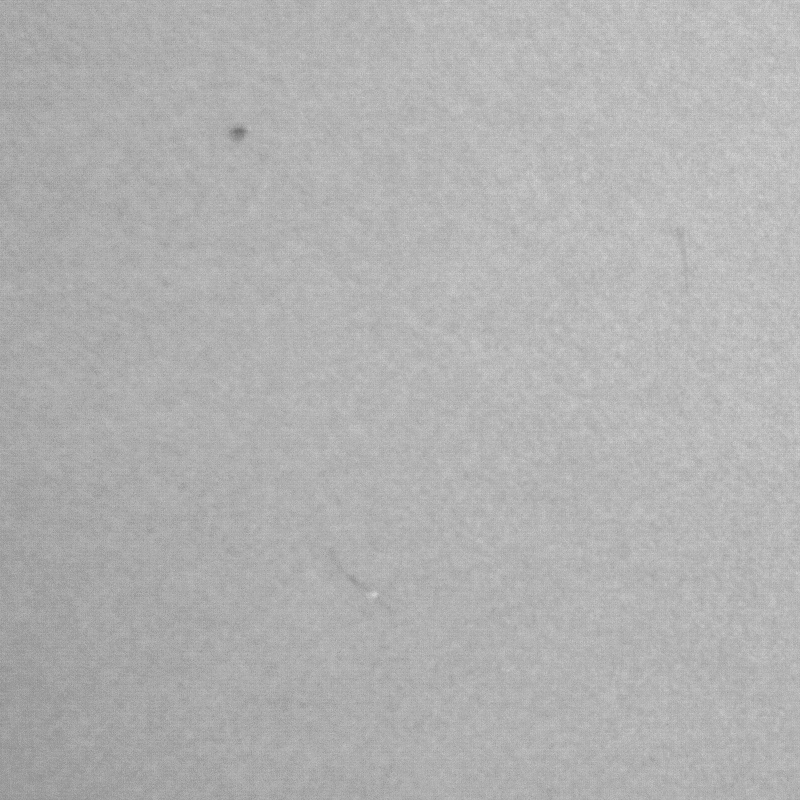defect: (342, 571, 388, 607), (675, 226, 694, 297), (220, 123, 251, 141)
